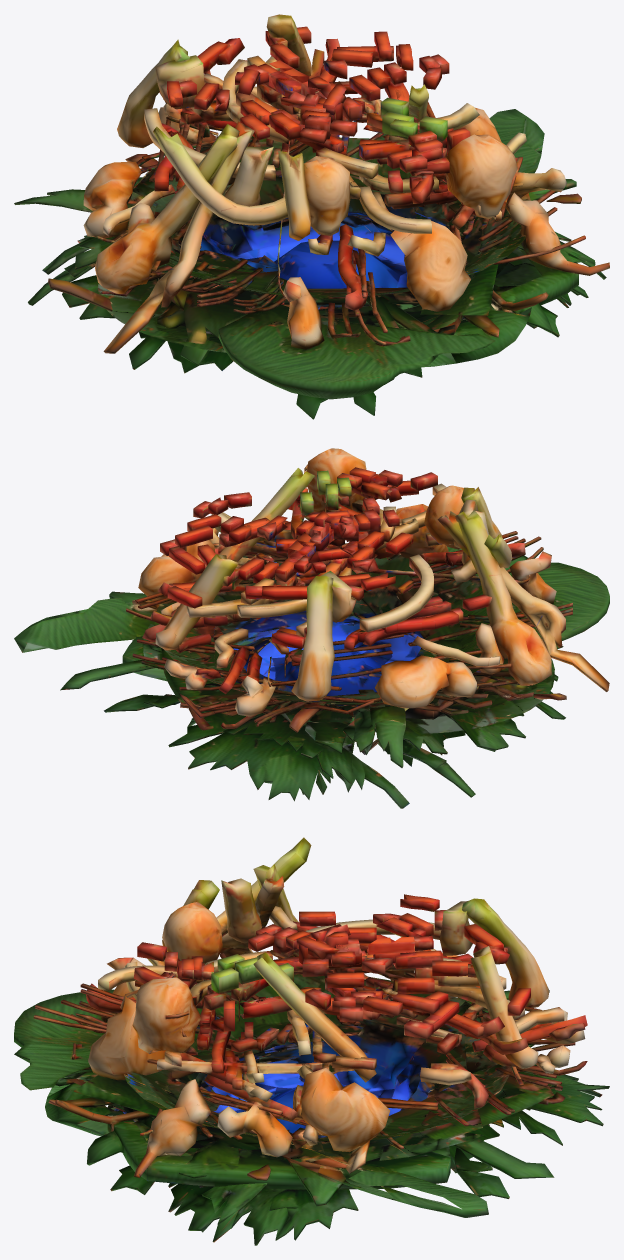
Rendered from Meshy_AI_Autumn_Blossom_Arrang_1227152941_texture.fbx.
3 views of the same model, one above another, from view 1: azimuth 30°, elevation 25°; view 2: azimuth 150°, elevation 25°; view 3: azimuth 270°, elevation 25° (orthographic). The views are drawn at different scales.
Visible parts, largest first — view 1: Mesh_0; view 2: Mesh_0; view 3: Mesh_0.
Boxes of the visible parts, box(x1,y1,x2,y2) form: Mesh_0: box(14, 14, 609, 419); Mesh_0: box(14, 448, 609, 808); Mesh_0: box(14, 837, 609, 1245).
Bounding box in the file's own units: 195 × 77.5 × 189.
Materials: 1 (1 with a texture image).
